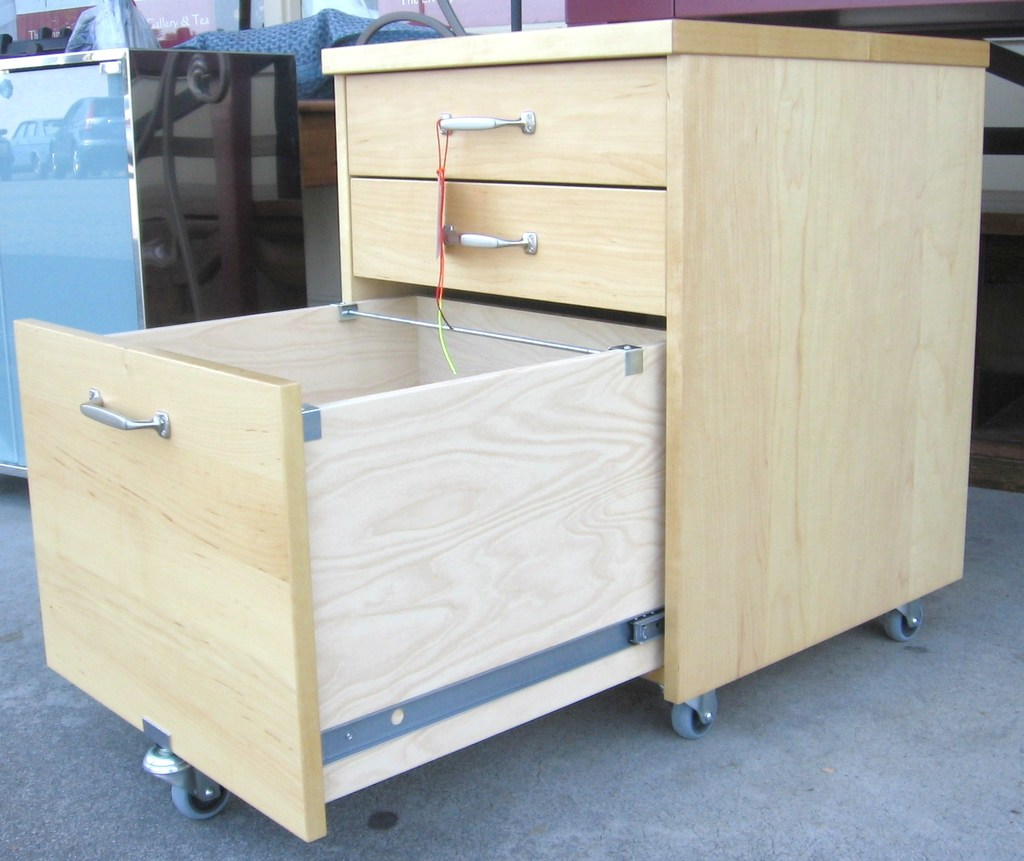cabinet door: (45, 354, 290, 722), (350, 81, 669, 185), (366, 187, 662, 298)
handle: (428, 219, 542, 264), (82, 399, 164, 448), (431, 110, 542, 146)
